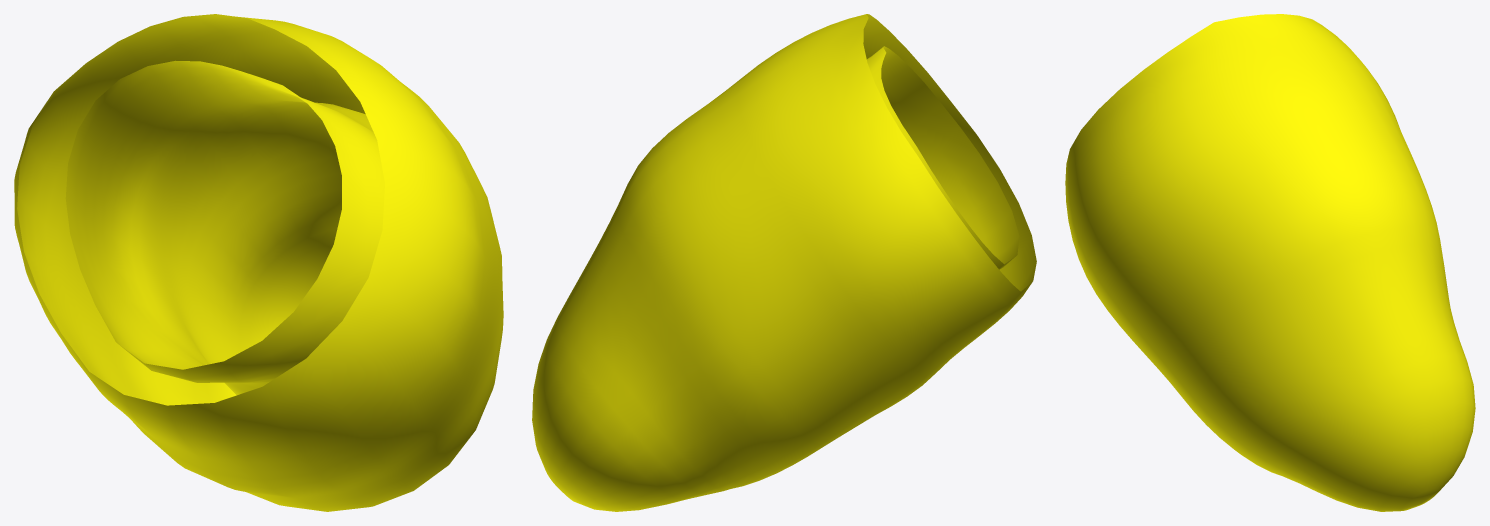
Rendered from heart_2d.gltf.
3 views of the same model, side by side, from view 1: azimuth 30°, elevation 25°; view 2: azimuth 150°, elevation 25°; view 3: azimuth 270°, elevation 25° (orthographic). The views are drawn at different scales.
Parts seen in each view (by area): view 1: heart_outer, heart_inner; view 2: heart_outer, heart_inner; view 3: heart_outer.
Boxes of the visible parts, bbox=[...] form: heart_outer: bbox=[14, 14, 503, 511]; heart_inner: bbox=[65, 60, 384, 395]; heart_outer: bbox=[532, 14, 1036, 511]; heart_inner: bbox=[866, 46, 1019, 269]; heart_outer: bbox=[1065, 14, 1475, 511].
Size of the model in its own units: 8.3 by 9.07 by 8.21.
